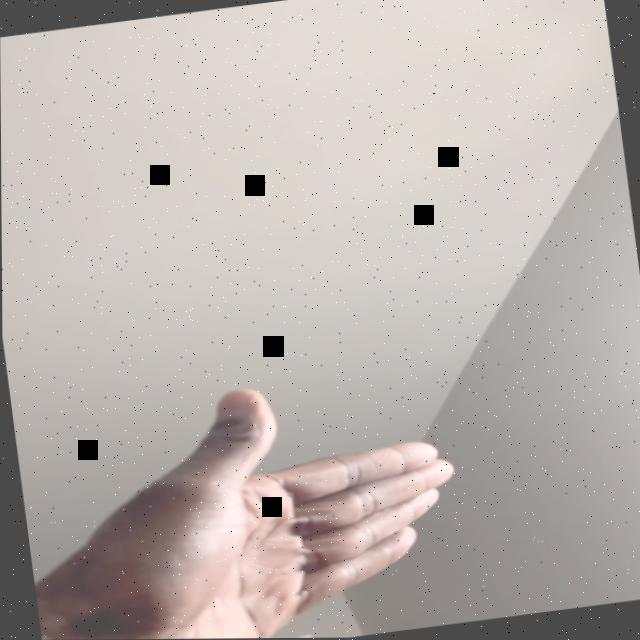Paper: (34, 359, 471, 640)
